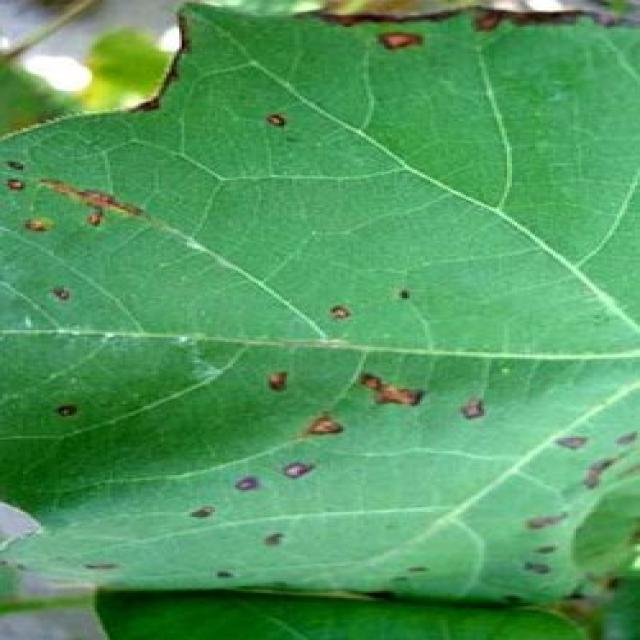Bacterial Blight: (7, 158, 588, 584)
